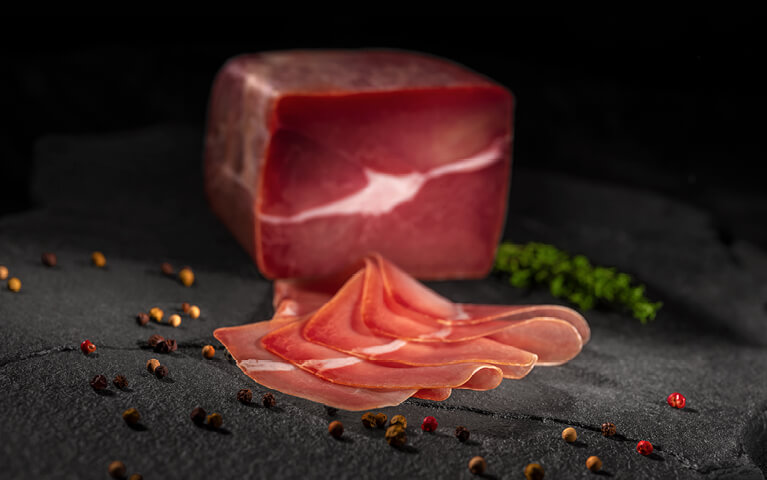bacon: (186, 43, 523, 289), (188, 236, 601, 415)
